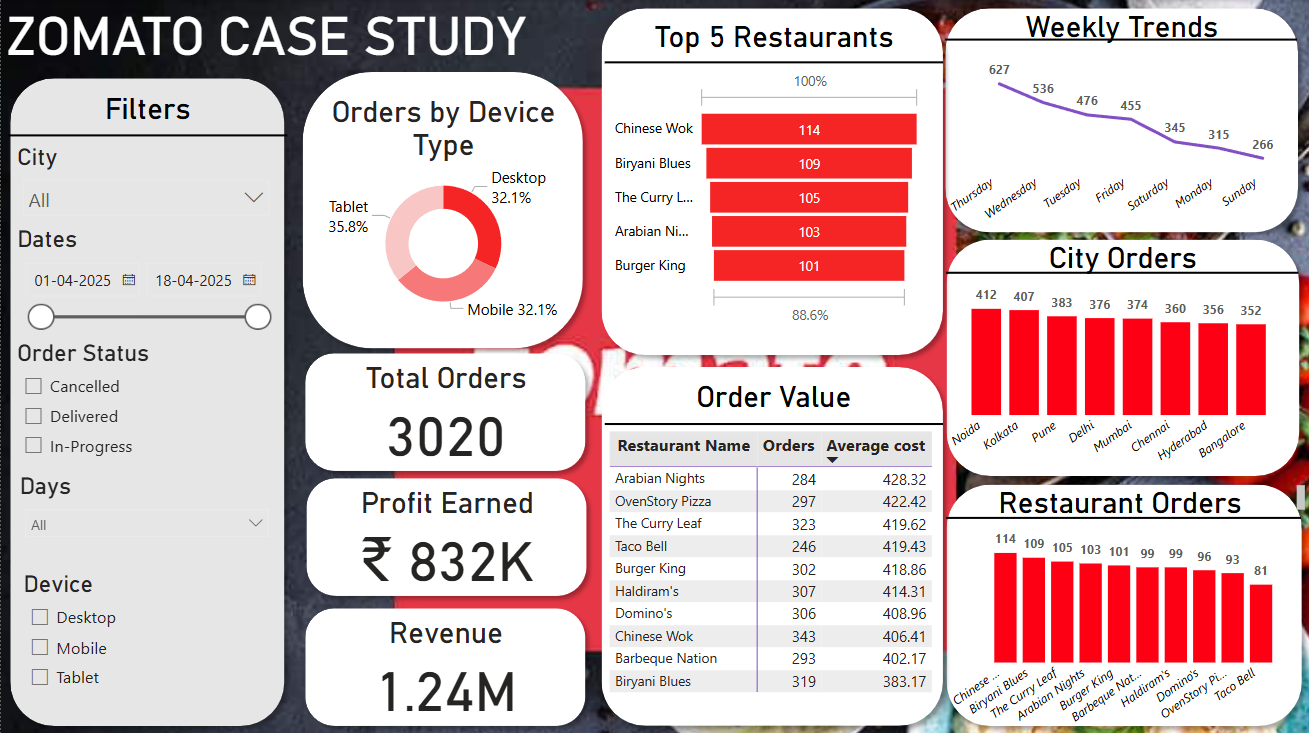

Layout of this report page (visuals, bound fields, positions):
{"tool":"powerbi","page":{"name":"Page 1","canvas":[1280,720],"ordinal":0},"visuals":[{"type":"textbox","box":[0,0,590.6,99],"z":0},{"type":"group","id":"g1","title":"Group 6","box":[578.4,0,352.4,357.6],"z":0,"group":"g16"},{"type":"shape","box":[578.4,0,352.4,357.6],"z":0,"group":"g1"},{"type":"group","id":"g2","title":"Group 1","box":[914.7,0,363.2,237.2],"z":0,"group":"g14"},{"type":"shape","box":[914.7,0,363.2,237.2],"z":0,"group":"g2"},{"type":"group","id":"g3","title":"Group 3","box":[590.6,14.9,331.6,60.6],"z":0,"group":"g9"},{"type":"group","id":"g4","title":"Group 4","box":[590.6,14.9,331.6,60.6],"z":0,"group":"g3"},{"type":"textbox","box":[591.1,14.9,331.1,49.7],"z":0,"group":"g4"},{"type":"shape","box":[286.1,62.4,292.3,288.6],"z":0,"group":"g17"},{"type":"shape","box":[0,68.5,286.1,651.8],"z":0,"group":"g12"},{"type":"group","id":"g5","title":"Group 1","box":[915.9,226.2,363.2,249.5],"z":0,"group":"g13"},{"type":"shape","box":[915.9,226.2,363.2,249.5],"z":0,"group":"g5"},{"type":"shape","box":[578.4,351,352.2,369.3],"z":0,"group":"g15"},{"type":"group","id":"g6","title":"Group 3","box":[590.6,366.3,331.1,340.2],"z":0,"group":"g10"},{"type":"group","id":"g7","title":"Group 4","box":[590.6,366.3,331.4,339.9],"z":0,"group":"g6"},{"type":"pivotTable","fields":{"Rows":["zomato_order_data.Restaurant Name"],"Values":["Sum(zomato_order_data.number_of_items)","Avg(zomato_order_data.cost)"]},"box":[590.6,417.4,325.3,288.8],"z":0,"group":"g7"},{"type":"group","id":"g8","title":"Group 1","box":[915.9,465.9,365.6,254.3],"z":0,"group":"g11"},{"type":"shape","box":[915.9,465.9,365.6,254.3],"z":0,"group":"g8"},{"type":"group","id":"g9","title":"Group 5","box":[590.6,14.9,331.6,60.6],"z":1000,"group":"g1"},{"type":"shape","box":[922.8,26.6,344.7,25.6],"z":1000,"group":"g2"},{"type":"shape","box":[590.6,49.4,331.1,26.1],"z":1000,"group":"g4"},{"type":"funnel","fields":{"Category":["zomato_order_data.Restaurant Name"],"Y":["CountNonNull(zomato_order_data.items_ordered)"]},"box":[595.1,64.7,310.4,258.7],"z":1000,"group":"g16"},{"type":"donutChart","title":"Orders by Device Type","fields":{"Y":["CountNonNull(zomato_order_data.number_of_items)"],"Series":["zomato_order_data.Devic Type"]},"box":[309.2,92.5,247,227.4],"z":1000,"group":"g17"},{"type":"shape","box":[7.1,97.9,273.2,71.3],"z":1000,"group":"g12"},{"type":"shape","box":[924,254.1,344.7,26.9],"z":1000,"group":"g5"},{"type":"group","id":"g10","title":"Group 5","box":[590.6,366.3,331.4,339.9],"z":1000,"group":"g15"},{"type":"textbox","box":[591.1,366.3,330.9,51.3],"z":1000,"group":"g7"},{"type":"group","id":"g11","title":"Group 2","box":[915.9,465.9,365.6,254.3],"z":1000},{"type":"shape","box":[924.1,494.4,347,27.5],"z":1000,"group":"g8"},{"type":"lineChart","title":"Orders by city","fields":{"Category":["zomato_order_data.Order Week"],"Y":["Sum(zomato_order_data.number_of_items)"]},"box":[919.5,34.1,337.2,203.1],"z":2000,"group":"g2"},{"type":"group","id":"g12","title":"Group 2","box":[0,68.5,286.1,651.8],"z":2000},{"type":"slicer","title":"City","fields":{"Values":["zomato_order_data.restaurant_city"]},"box":[10.6,140.6,261.4,79.9],"z":2000,"group":"g12"},{"type":"columnChart","title":"Orders by city","fields":{"Y":["Sum(zomato_order_data.number_of_items)"],"Category":["zomato_order_data.restaurant_city"]},"box":[920.7,262.1,337.2,213.5],"z":2000,"group":"g5"},{"type":"shape","box":[590.6,402,330.9,27],"z":2000,"group":"g7"},{"type":"columnChart","title":"Orders by city","fields":{"Category":["zomato_order_data.restaurant_name"],"Y":["Sum(zomato_order_data.number_of_items)"]},"box":[920.7,502.5,339.5,217.7],"z":2000,"group":"g8"},{"type":"textbox","box":[916,4.9,360.7,46.5],"z":3000,"group":"g2"},{"type":"textbox","box":[28.3,85,230.8,45.6],"z":3000,"group":"g12"},{"type":"slicer","title":"Dates","fields":{"Values":["zomato_order_data.order_date"]},"box":[11,221.3,261.7,103.9],"z":3000},{"type":"textbox","box":[917.2,231.3,360.7,48.9],"z":3000,"group":"g5"},{"type":"textbox","box":[917.3,471,363.1,37.6],"z":3000,"group":"g8"},{"type":"slicer","title":"Order Status","fields":{"Values":["zomato_order_data.order_status"]},"box":[11,332.6,261.7,127.2],"z":4000},{"type":"slicer","title":"Device","fields":{"Values":["zomato_order_data.device_type"]},"box":[17.1,558.8,251.9,129.6],"z":5000},{"type":"slicer","title":"Days","fields":{"Values":["zomato_order_data.order_day_of_week"]},"box":[13.5,462.2,258,91.7],"z":6000},{"type":"group","id":"g13","title":"Group 2","box":[915.9,226.2,363.2,249.5],"z":7000},{"type":"group","id":"g14","title":"Group 2","box":[914.7,0,363.2,237.2],"z":8000},{"type":"group","id":"g15","title":"Group 6","box":[578.4,351,352.2,369.3],"z":9000},{"type":"group","id":"g16","title":"Group 7","box":[578.4,0,352.2,357.1],"z":13000},{"type":"shape","box":[288.6,337.5,292.3,133.3],"z":13500,"group":"g20"},{"type":"shape","box":[289.8,459.8,292.3,133.3],"z":13500,"group":"g18"},{"type":"shape","box":[288.6,587,292.3,133.3],"z":13500,"group":"g19"},{"type":"group","id":"g17","title":"Group 8","box":[286.1,62.4,292.3,288.6],"z":14000},{"type":"card","title":"Total Orders","fields":{"Values":["zomato_order_data.total order items"]},"box":[311.8,353.4,247,102.7],"z":16000,"group":"g20"},{"type":"card","title":"Profit Earned","fields":{"Values":["zomato_order_data.Profit"]},"box":[313,475.7,247,102.7],"z":16000,"group":"g18"},{"type":"card","title":"Revenue","fields":{"Values":["zomato_order_data.Revenue"]},"box":[311.8,602.9,247,102.7],"z":16000,"group":"g19"},{"type":"group","id":"g18","title":"Group 9","box":[289.8,459.8,292.3,133.3],"z":16001},{"type":"group","id":"g19","title":"Group 9","box":[288.6,587,292.3,133.3],"z":16002},{"type":"group","id":"g20","title":"Group 9","box":[288.6,337.5,292.3,133.3],"z":16003}]}

Visuals, with their boxes in screenshot pixels (x1, y1, x2, y2), scaled from the page's 1280x720 canvas onto the 1309x733 screenshot:
textbox: box(0, 0, 604, 101)
"Group 6" group: box(592, 0, 952, 364)
shape: box(592, 0, 952, 364)
"Group 1" group: box(935, 0, 1307, 241)
shape: box(935, 0, 1307, 241)
"Group 3" group: box(604, 15, 943, 77)
"Group 4" group: box(604, 15, 943, 77)
textbox: box(604, 15, 943, 66)
shape: box(293, 64, 592, 357)
shape: box(0, 70, 293, 732)
"Group 1" group: box(937, 230, 1308, 484)
shape: box(937, 230, 1308, 484)
shape: box(592, 357, 952, 732)
"Group 3" group: box(604, 373, 943, 719)
"Group 4" group: box(604, 373, 943, 719)
pivotTable - zomato_order_data.Restaurant Name x Sum(zomato_order_data.number_of_items): box(604, 425, 937, 719)
"Group 1" group: box(937, 474, 1308, 732)
shape: box(937, 474, 1308, 732)
"Group 5" group: box(604, 15, 943, 77)
shape: box(944, 27, 1296, 53)
shape: box(604, 50, 943, 77)
funnel - zomato_order_data.Restaurant Name x CountNonNull(zomato_order_data.items_ordered): box(609, 66, 926, 329)
"Orders by Device Type" donutChart: box(316, 94, 569, 326)
shape: box(7, 100, 287, 172)
shape: box(945, 259, 1297, 286)
"Group 5" group: box(604, 373, 943, 719)
textbox: box(604, 373, 943, 425)
"Group 2" group: box(937, 474, 1308, 732)
shape: box(945, 503, 1300, 531)
"Orders by city" lineChart: box(940, 35, 1285, 241)
"Group 2" group: box(0, 70, 293, 732)
"City" slicer: box(11, 143, 278, 224)
"Orders by city" columnChart: box(942, 267, 1286, 484)
shape: box(604, 409, 942, 437)
"Orders by city" columnChart: box(942, 512, 1289, 732)
textbox: box(937, 5, 1306, 52)
textbox: box(29, 87, 265, 133)
"Dates" slicer: box(11, 225, 279, 331)
textbox: box(938, 235, 1307, 285)
textbox: box(938, 480, 1308, 518)
"Order Status" slicer: box(11, 339, 279, 468)
"Device" slicer: box(17, 569, 275, 701)
"Days" slicer: box(14, 471, 278, 564)
"Group 2" group: box(937, 230, 1308, 484)
"Group 2" group: box(935, 0, 1307, 241)
"Group 6" group: box(592, 357, 952, 732)
"Group 7" group: box(592, 0, 952, 364)
shape: box(295, 344, 594, 479)
shape: box(296, 468, 595, 604)
shape: box(295, 598, 594, 732)
"Group 8" group: box(293, 64, 592, 357)
"Total Orders" card: box(319, 360, 571, 464)
"Profit Earned" card: box(320, 484, 573, 589)
"Revenue" card: box(319, 614, 571, 718)
"Group 9" group: box(296, 468, 595, 604)
"Group 9" group: box(295, 598, 594, 732)
"Group 9" group: box(295, 344, 594, 479)
